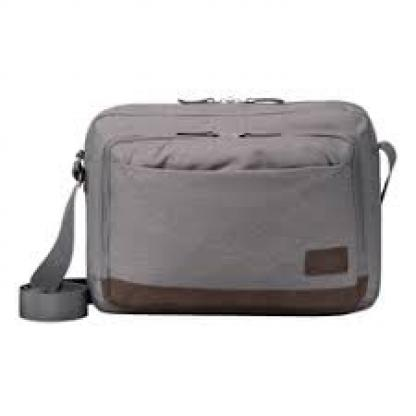morral: (17, 68, 398, 344)
